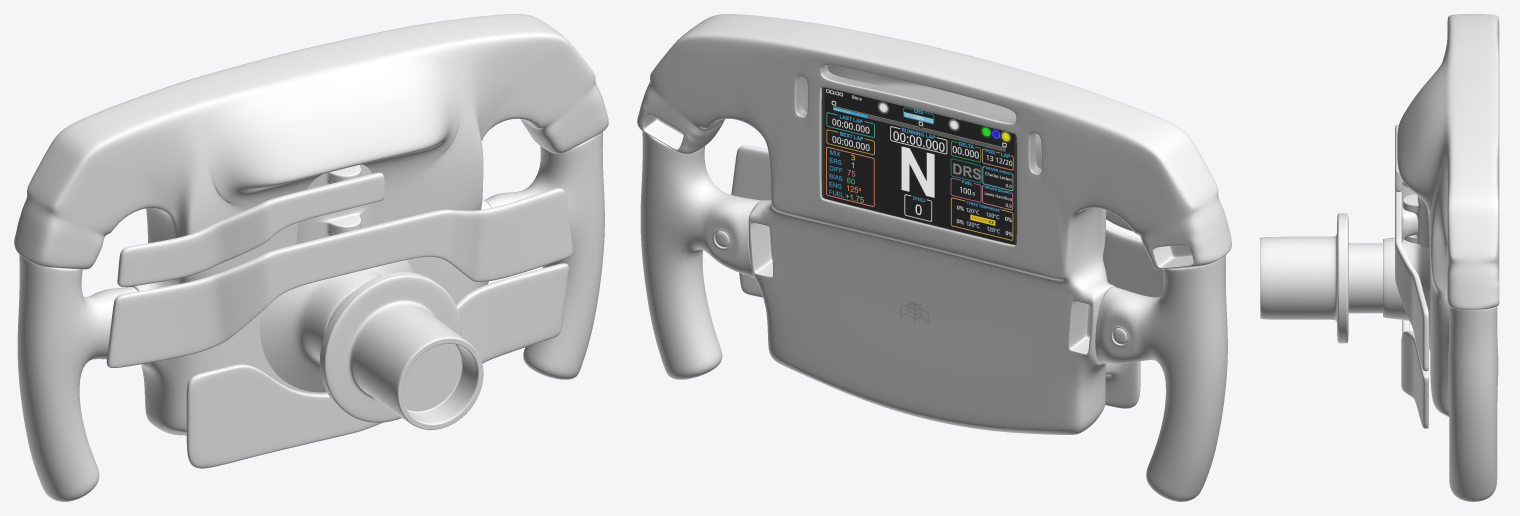
The model's file is F1_steering_wheel_core.gltf.
3 views of the same model, side by side, from view 1: azimuth 30°, elevation 25°; view 2: azimuth 150°, elevation 25°; view 3: azimuth 270°, elevation 25° (orthographic). The views are drawn at different scales.
Visible parts, largest first — view 1: steering_wheel_body.001, paddle_gear_shifter.001, steering_wheel_grip.001, steering_wheel_mount_shaft.001, paddle_bottom.001, paddle_top.001, paddle_holders.001; view 2: steering_wheel_body.001, steering_wheel_grip.001, steering_wheel_display_glass.001, ferrari_dashboard_screen, paddle_gear_shifter.001, paddle_bottom.001, steering_wheel_display_emmiter.001; view 3: steering_wheel_body.001, steering_wheel_mount_shaft.001, steering_wheel_grip.001, paddle_gear_shifter.001, paddle_bottom.001, paddle_holders.001, paddle_top.001.
Boxes of the visible parts, bbox=[...] form: steering_wheel_body.001: bbox=[14, 14, 608, 435]; paddle_gear_shifter.001: bbox=[106, 188, 572, 368]; steering_wheel_grip.001: bbox=[17, 131, 604, 501]; steering_wheel_mount_shaft.001: bbox=[259, 260, 483, 429]; paddle_bottom.001: bbox=[186, 263, 568, 468]; paddle_top.001: bbox=[117, 172, 384, 286]; paddle_holders.001: bbox=[296, 164, 376, 244]; steering_wheel_body.001: bbox=[637, 14, 1231, 434]; steering_wheel_grip.001: bbox=[640, 131, 1227, 501]; steering_wheel_display_glass.001: bbox=[796, 65, 1041, 245]; ferrari_dashboard_screen: bbox=[824, 87, 1014, 244]; paddle_gear_shifter.001: bbox=[731, 145, 1163, 297]; paddle_bottom.001: bbox=[739, 272, 1140, 408]; steering_wheel_display_emmiter.001: bbox=[821, 87, 1016, 244]; steering_wheel_body.001: bbox=[1397, 14, 1499, 416]; steering_wheel_mount_shaft.001: bbox=[1260, 213, 1430, 351]; steering_wheel_grip.001: bbox=[1448, 306, 1498, 501]; paddle_gear_shifter.001: bbox=[1395, 184, 1428, 371]; paddle_bottom.001: bbox=[1401, 320, 1428, 428]; paddle_holders.001: bbox=[1402, 183, 1429, 247]; paddle_top.001: bbox=[1395, 124, 1404, 191].
Size of the model in its own units: 0.3064 by 0.1907 by 0.1372.
10 materials, 2 textured.
